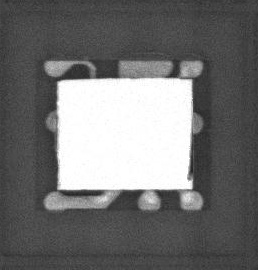DIE_BROKEN: (185, 141, 195, 182)
